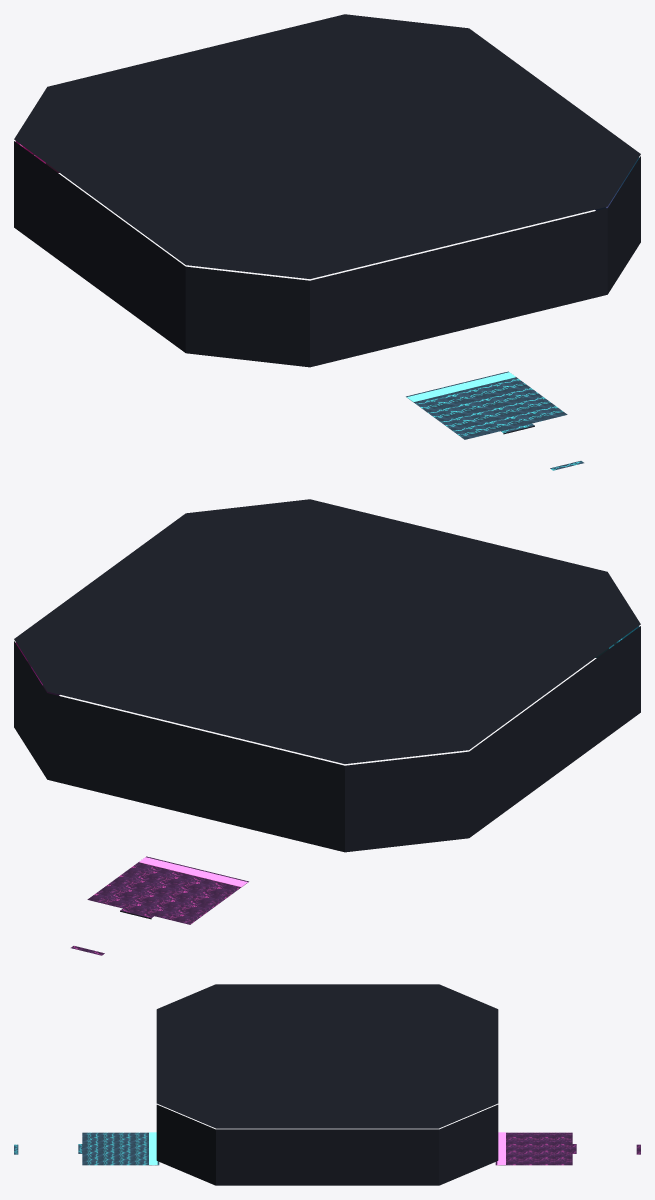
The model's file is kb_roof_v36.glb.
3 views of the same model, one above another, from view 1: azimuth 30°, elevation 25°; view 2: azimuth 150°, elevation 25°; view 3: azimuth 270°, elevation 25° (orthographic). The views are drawn at different scales.
Parts seen in each view (by area): view 1: skin; view 2: skin; view 3: skin.
Boxes of the visible parts, left/top/right/bottom form: skin: left=14, top=14, right=640, bottom=470; skin: left=14, top=499, right=640, bottom=955; skin: left=14, top=984, right=640, bottom=1185.
Bounding box in the file's own units: 127 × 38.34 × 234.
9 materials, 4 textured.
